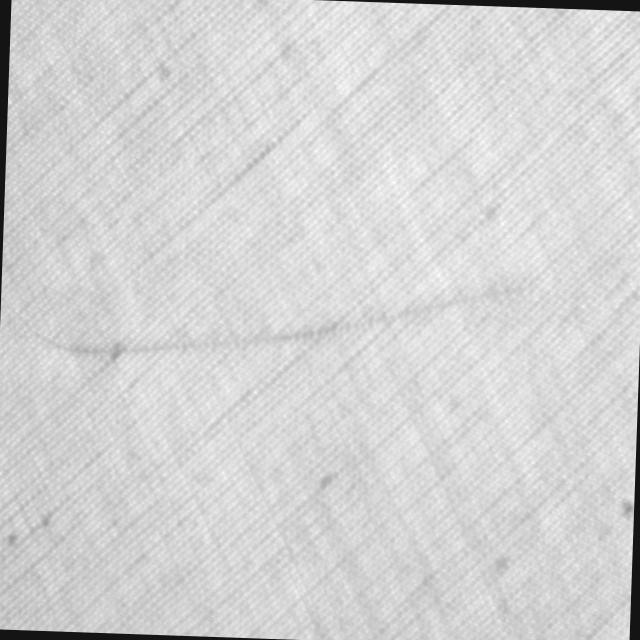objects: (0, 260, 520, 373)
